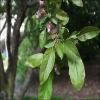Apple leaf: (69, 48, 85, 94), (38, 45, 55, 86), (76, 23, 99, 44), (61, 37, 81, 61), (23, 52, 46, 68), (55, 6, 70, 26), (39, 28, 47, 52), (59, 27, 71, 42)
